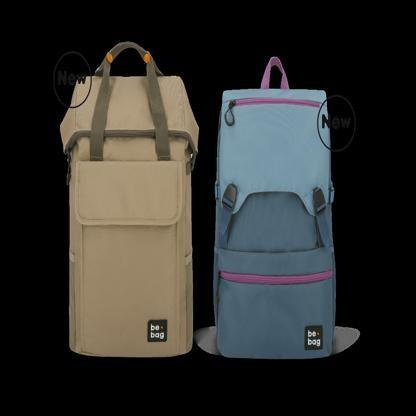not trash: (63, 39, 196, 360), (209, 53, 338, 360)
